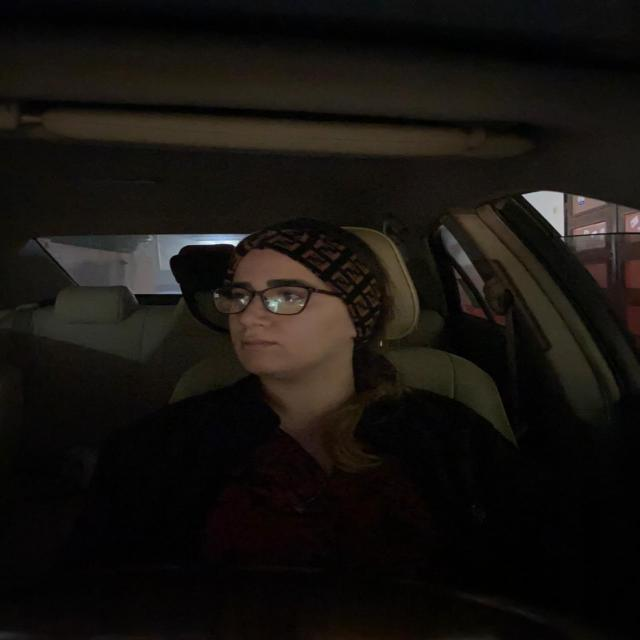person: (203, 218, 391, 402)
